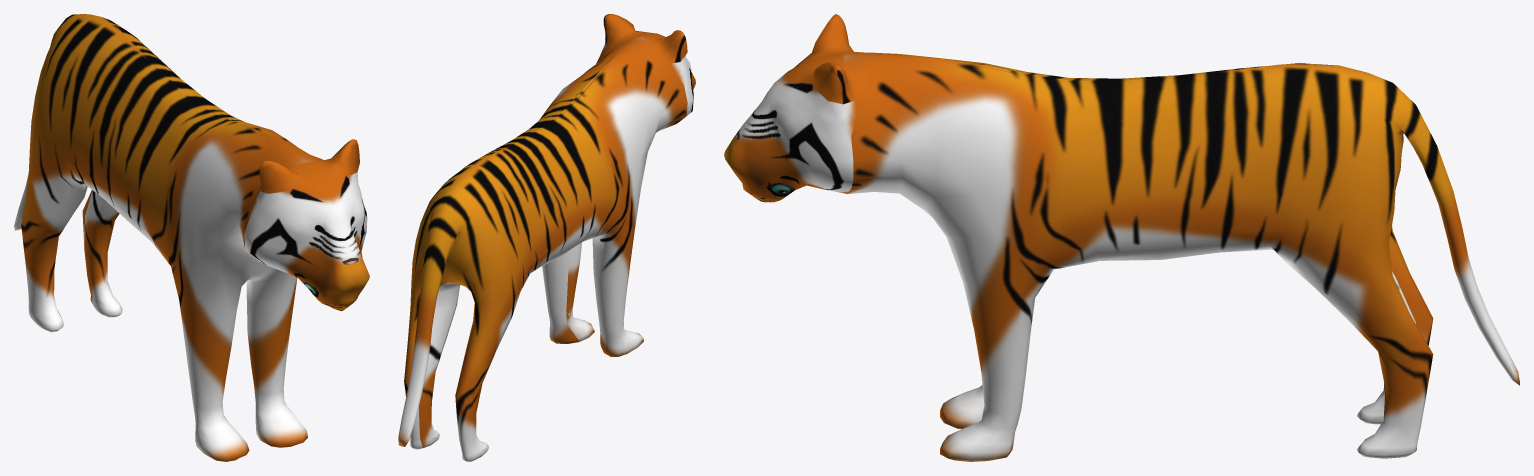
Rendered from tiger.gltf.
3 views of the same model, side by side, from view 1: azimuth 30°, elevation 25°; view 2: azimuth 150°, elevation 25°; view 3: azimuth 270°, elevation 25° (orthographic). The views are drawn at different scales.
Size of the model in its own units: 0.7225 by 2.03 by 3.66.
1 material, 1 textured.
